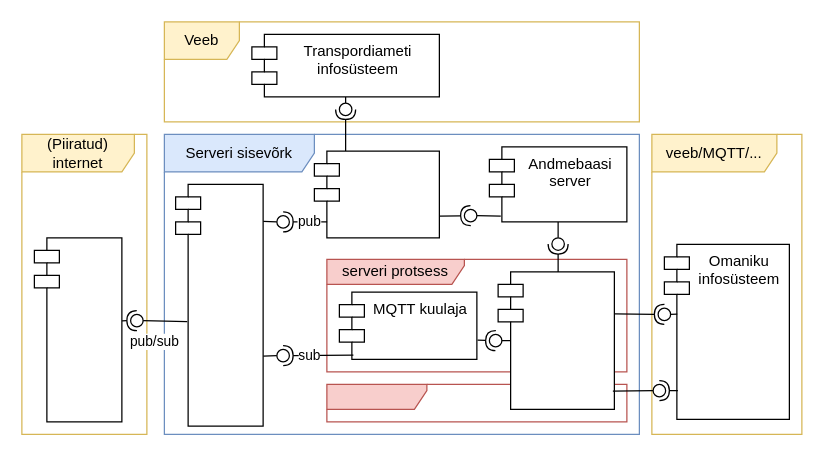
The diagram is 824 pixels wide and 456 high, and some of its shapes have lost their labels. The shapes that lost their labels are listed below. From the top down, each one's centre as x and y in pixels, then its label:
the point at 376,194: GTFS import MQTT eksport
the point at 218,304: MQTT broker
the point at 77,329: Tabloo
the point at 555,340: Mooduli omaniku pistik
the point at 476,402: veebiserver
